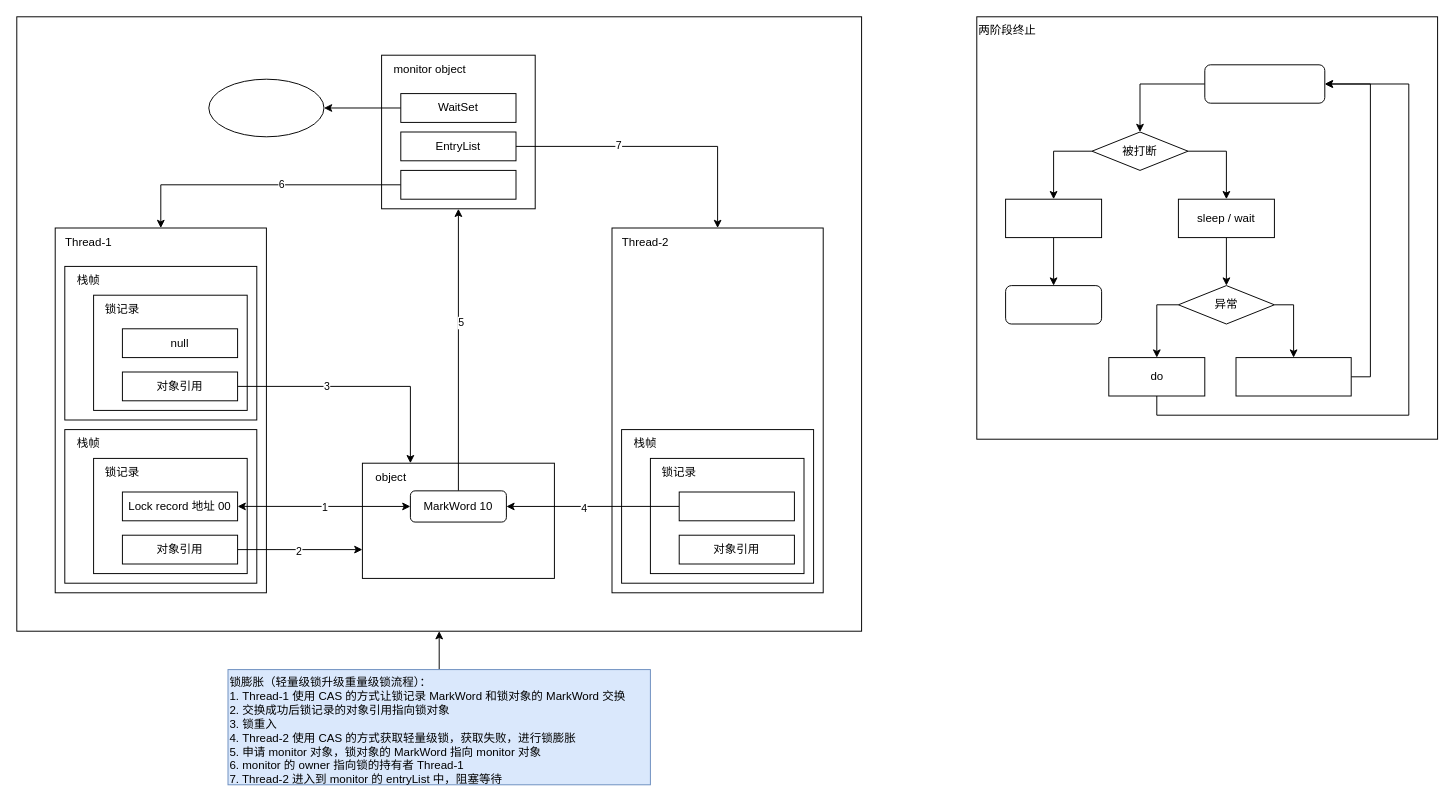
Image size: 1454x804. Some labels were removed from this diagram. The centre of each missing label's shape, as x and y in pixels:
break: the point at 1053,304
Owner: the point at 458,184
WAITING: the point at 266,107
while(true): the point at 1264,83
对象头: the point at 736,506
打断：设置打断标记: the point at 1293,376
释放资源: the point at 1053,218
